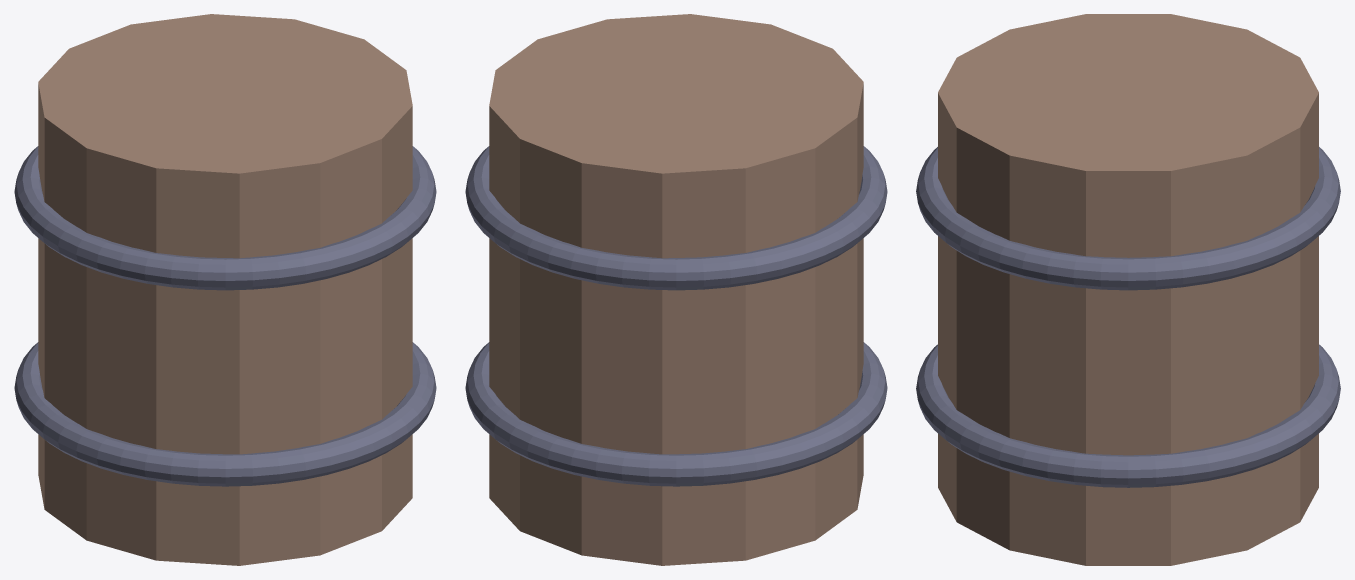
File: Barrel.glb
The picture shows the model from 3 angles, left to right: view 1: azimuth 30°, elevation 25°; view 2: azimuth 150°, elevation 25°; view 3: azimuth 270°, elevation 25°; orthographic projection.
Parts seen in each view (by area): view 1: Barrel; view 2: Barrel; view 3: Barrel.
Boxes of the visible parts, left/top/right/bottom form: Barrel: left=14, top=14, right=436, bottom=565; Barrel: left=465, top=14, right=887, bottom=565; Barrel: left=916, top=14, right=1340, bottom=565.
Bounding box in the file's own units: 0.78 × 0.8 × 0.78.
